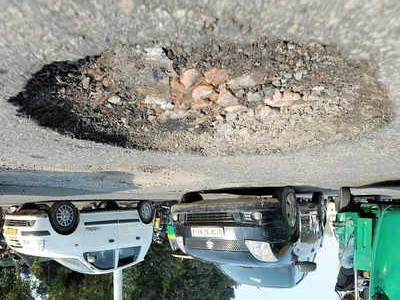pothole: (5, 36, 396, 159), (117, 164, 203, 189)
